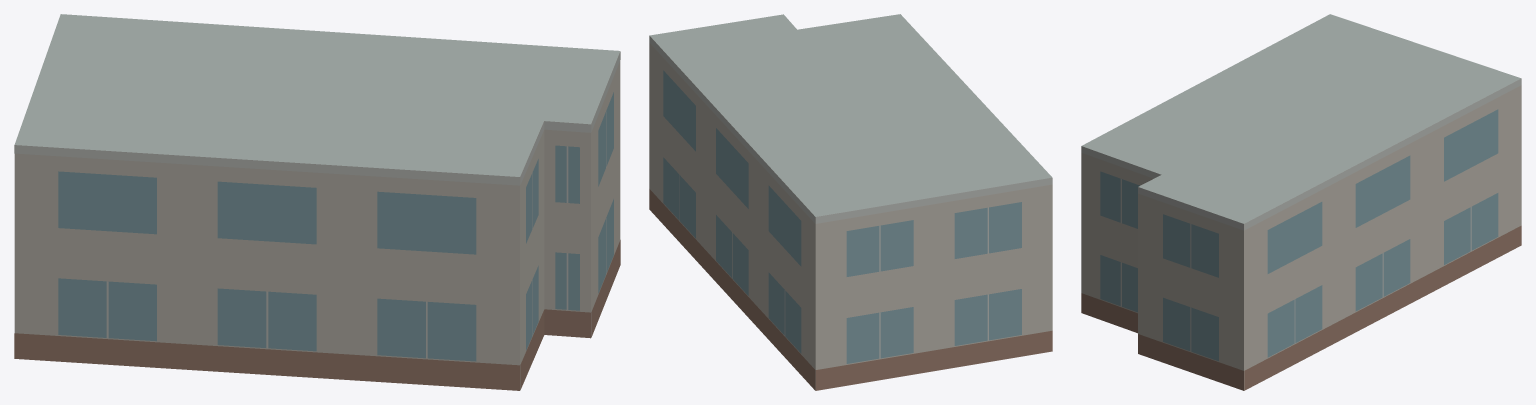
Rendered from survey-upis-32941520.glb.
3 renders of one model, left to right at view 1: azimuth 30°, elevation 25°; view 2: azimuth 150°, elevation 25°; view 3: azimuth 270°, elevation 25°, orthographic. The views are drawn at different scales.
Parts seen in each view (by area): view 1: survey-upis-32941520.tmp; view 2: survey-upis-32941520.tmp; view 3: survey-upis-32941520.tmp.
Boxes of the visible parts, left/top/right/bottom form: survey-upis-32941520.tmp: left=14, top=14, right=620, bottom=390; survey-upis-32941520.tmp: left=649, top=14, right=1052, bottom=390; survey-upis-32941520.tmp: left=1081, top=14, right=1521, bottom=390.
Bounding box in the file's own units: 16.46 × 6.1 × 14.59.
